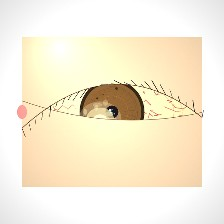corneal_ulcer: (78, 101, 122, 136)
